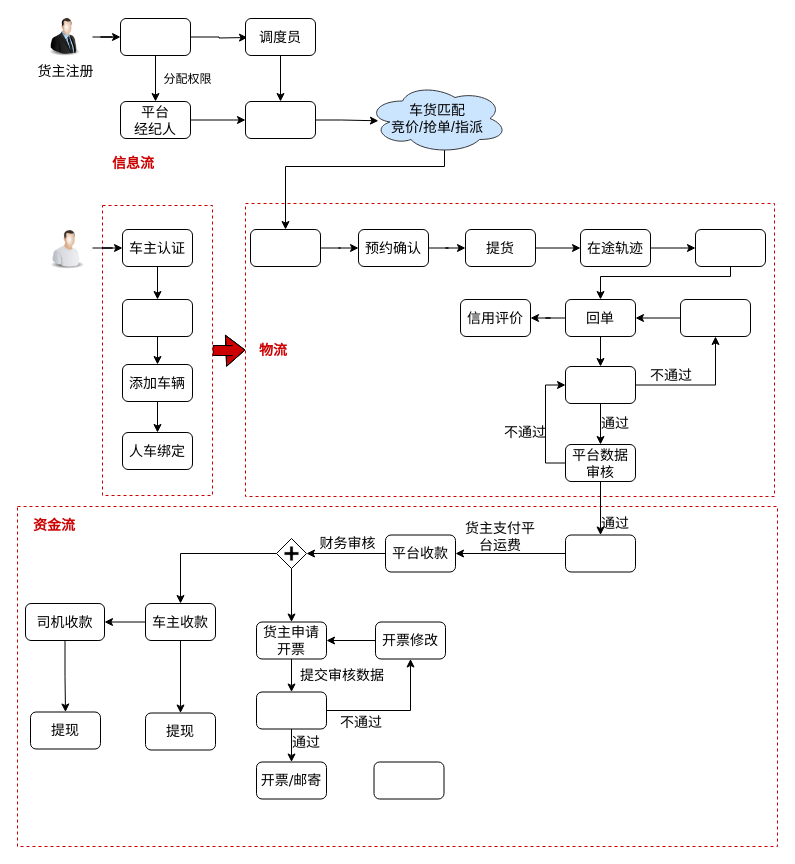
Some shapes in this 795 by 864 pixel diagram are drawn without their labels. The box of each missing label's shape, as (x1, y1, x2, y2) in pixels:
企业税率管理: (373, 761, 444, 799)
企业货主认证: (120, 18, 190, 56)
发布货源: (244, 100, 316, 138)
司机接单: (250, 228, 320, 266)
回单修改: (680, 298, 750, 336)
在线支付: (564, 534, 636, 572)
平台开票审核: (256, 691, 326, 729)
添加司机: (122, 298, 192, 336)
货主回单审核: (564, 366, 636, 404)
车主注册: (42, 226, 92, 269)
运抵: (694, 228, 766, 266)
